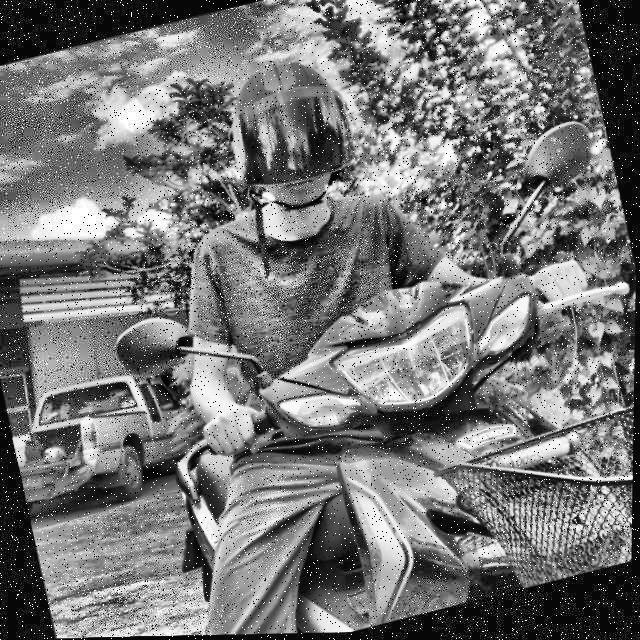Helmet: (211, 46, 372, 228)
